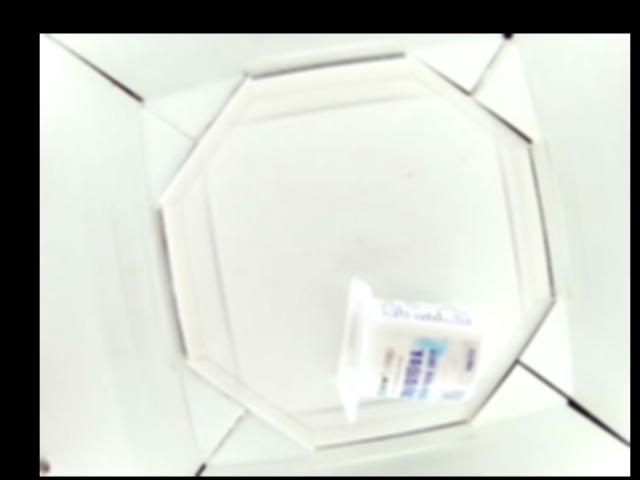Cup: (333, 277, 481, 417)
